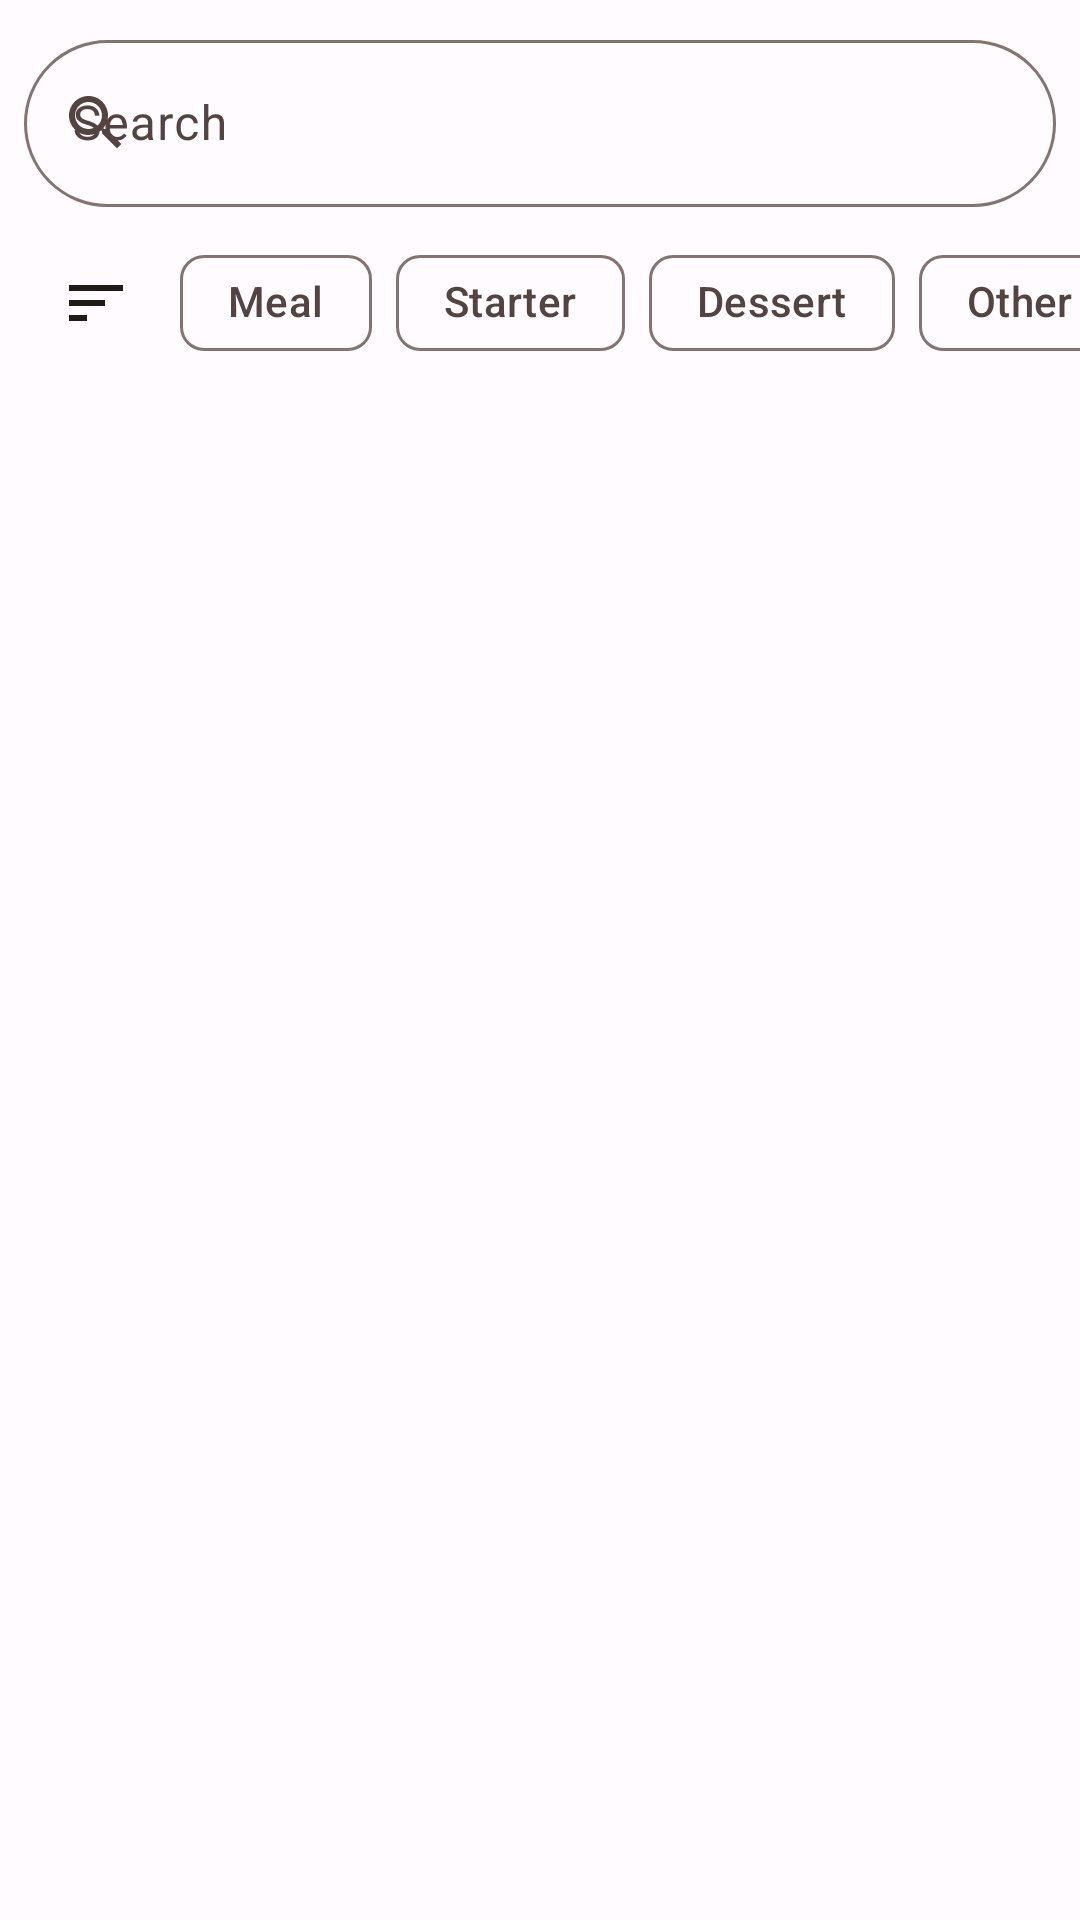

Icons on this 1080 × 1920 Android screen, each with the point to tap as (x,y):
sort: (96,303)
